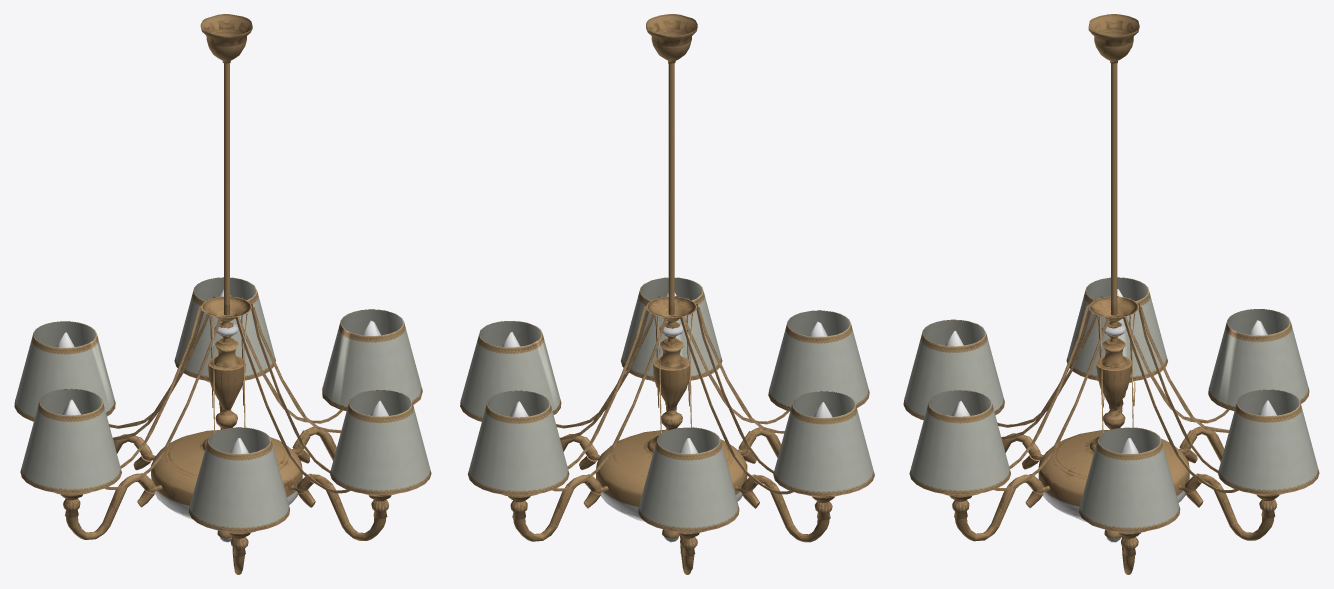
The model's file is Chandelier_02.glb.
3 renders of one model, left to right at view 1: azimuth 30°, elevation 25°; view 2: azimuth 150°, elevation 25°; view 3: azimuth 270°, elevation 25°, orthographic.
Visible parts, largest first — view 1: Chandelier_02; view 2: Chandelier_02; view 3: Chandelier_02.
Boxes of the visible parts, left/top/right/bottom form: Chandelier_02: left=14, top=14, right=431, bottom=574; Chandelier_02: left=460, top=14, right=874, bottom=574; Chandelier_02: left=903, top=14, right=1319, bottom=574.
Size of the model in its own units: 0.6788 by 0.8481 by 0.619.
Materials: 2 (1 with a texture image).
